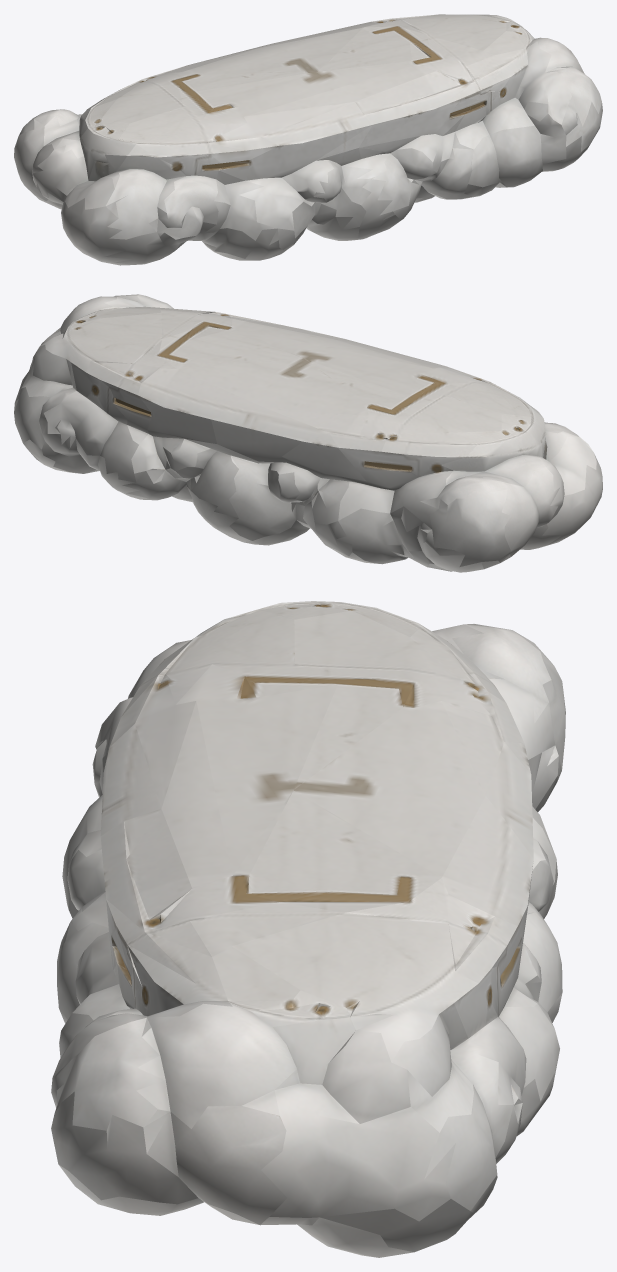
File: landing-platform-cloud.glb
The picture shows the model from 3 angles, top to bottom: view 1: azimuth 30°, elevation 25°; view 2: azimuth 150°, elevation 25°; view 3: azimuth 270°, elevation 25°; orthographic projection. The views are drawn at different scales.
Visible parts, largest first — view 1: output_unwrapped; view 2: output_unwrapped; view 3: output_unwrapped.
Part boxes in pixels (x1,y1,x2,y2): output_unwrapped: (14, 14, 602, 265); output_unwrapped: (14, 294, 602, 572); output_unwrapped: (51, 601, 565, 1257).
Bounding box in the file's own units: 1.9 × 0.5297 × 0.8184.
Materials: 1 (1 with a texture image).
